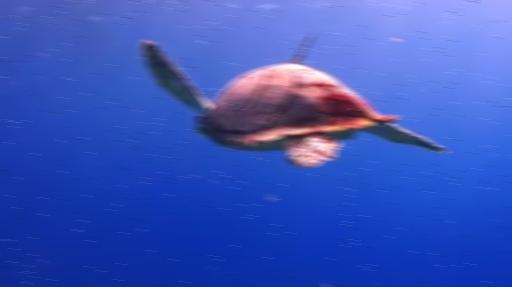Fish: (140, 34, 445, 166)
